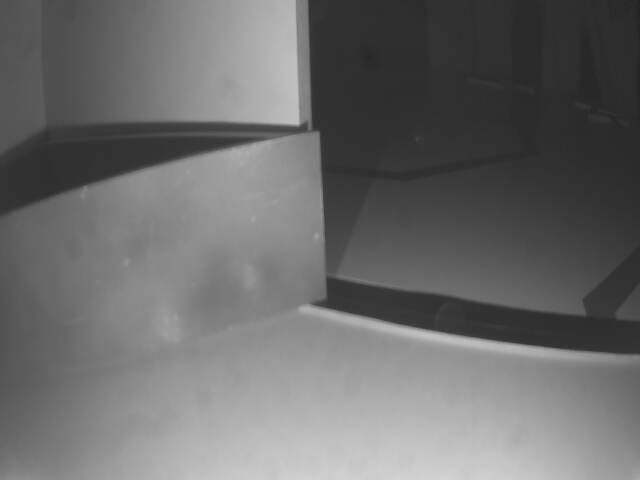Green: (0, 132, 321, 387)
